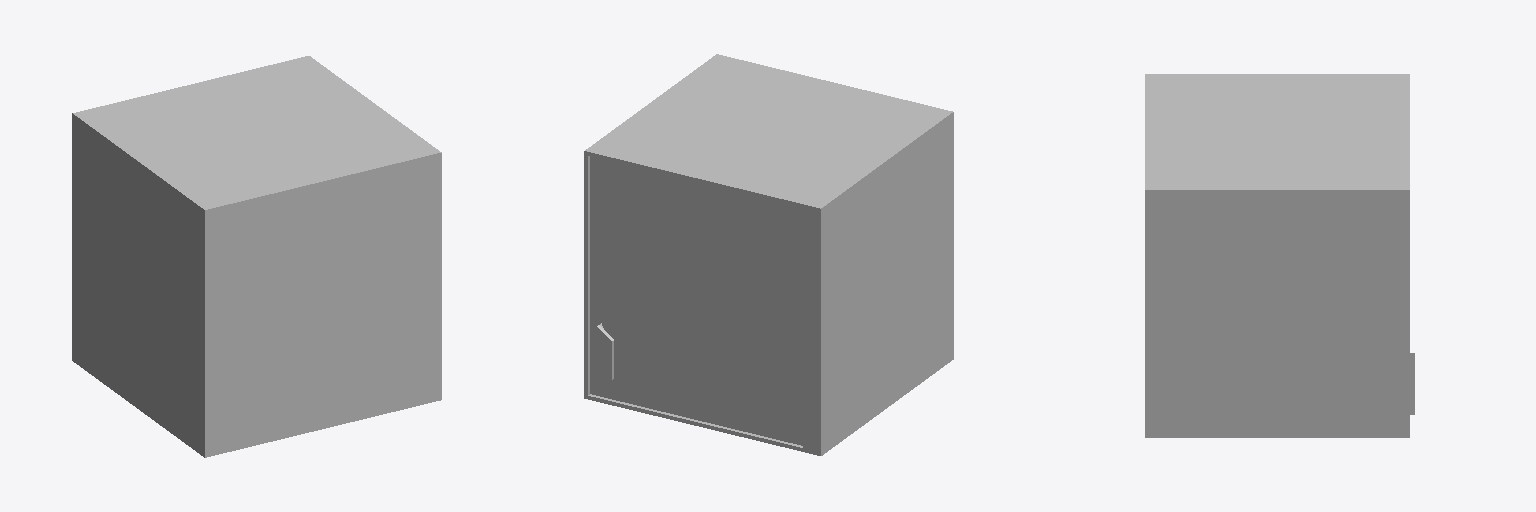
Rendered from placard_haut.obj.
The picture shows the model from 3 angles: view 1: azimuth 30°, elevation 25°; view 2: azimuth 150°, elevation 25°; view 3: azimuth 270°, elevation 25°; orthographic projection.
Visible parts, largest first — view 1: cube.001, cube.002; view 2: cube.001, cube.002, poignée; view 3: cube.001, cube.002.
Part boxes in pixels (x1,y1,x2,y2): cube.001: (72, 59, 441, 457); cube.002: (88, 56, 312, 112); cube.001: (589, 54, 953, 455); cube.002: (584, 148, 809, 452); poignée: (597, 323, 613, 387); cube.001: (1145, 74, 1409, 437); cube.002: (1402, 82, 1409, 437).
Size of the model in its own units: 1 by 1 by 0.9844.